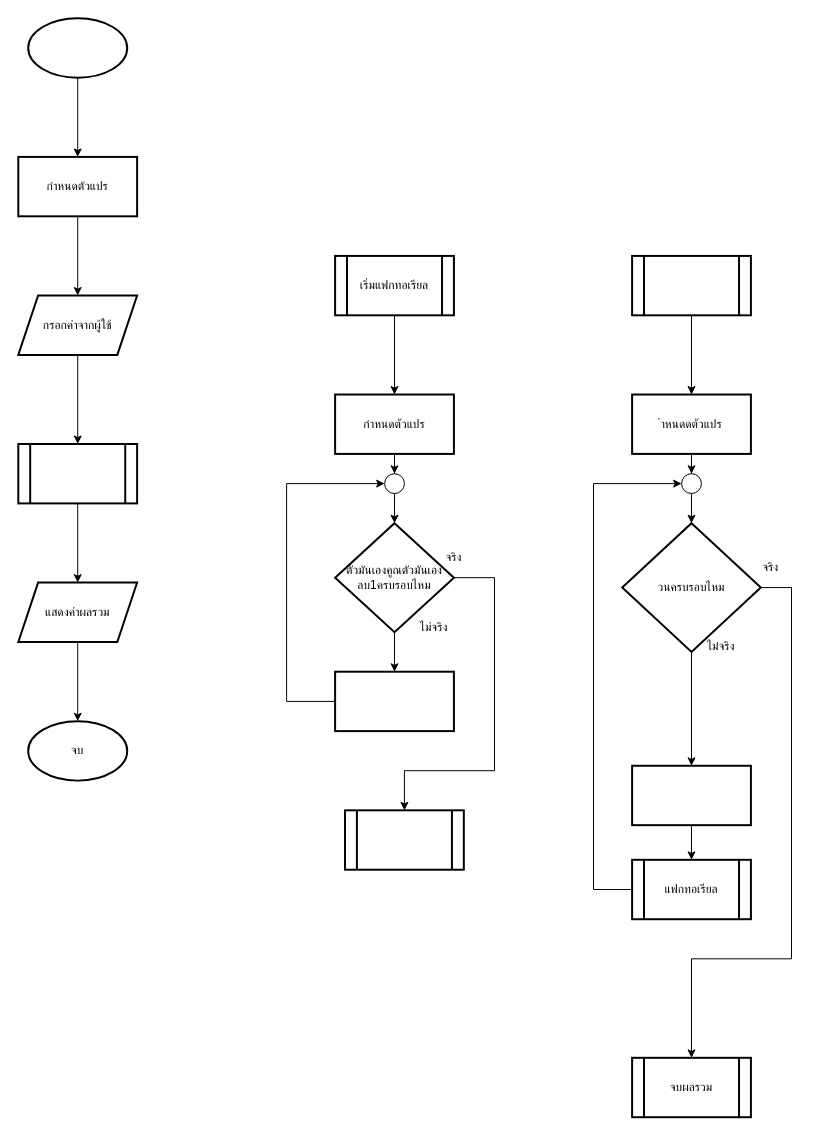
The diagram is 817 pixels wide and 1135 high, and some of its shapes have lost their labels. Here are the shapes that lost their labels. From the top down, the centre of each, then its label:
the point at 77,47: เริ่ม
the point at 691,285: เริ่มผลรวม
the point at 77,473: ผลรวม
the point at 394,701: คำนวนแฟกทอเรียล
the point at 691,795: คำนวนผลรวมแต่ละพจน์
the point at 404,839: จบแฟกทอเรียล
